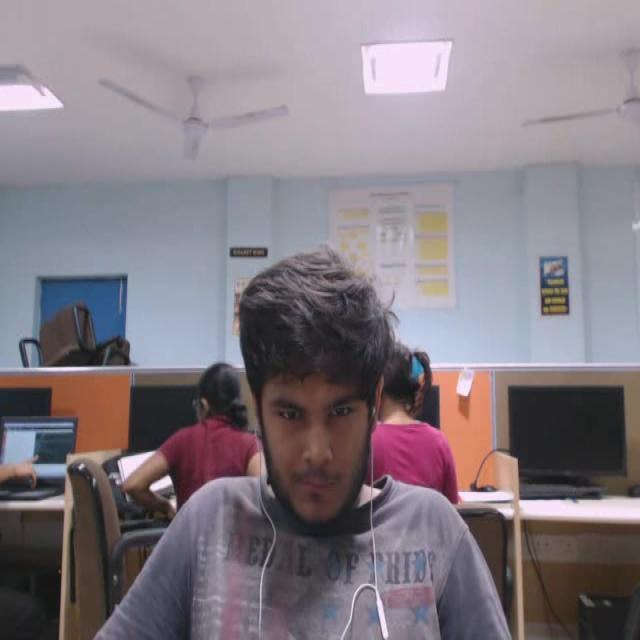Engaged: (222, 217, 426, 560)
